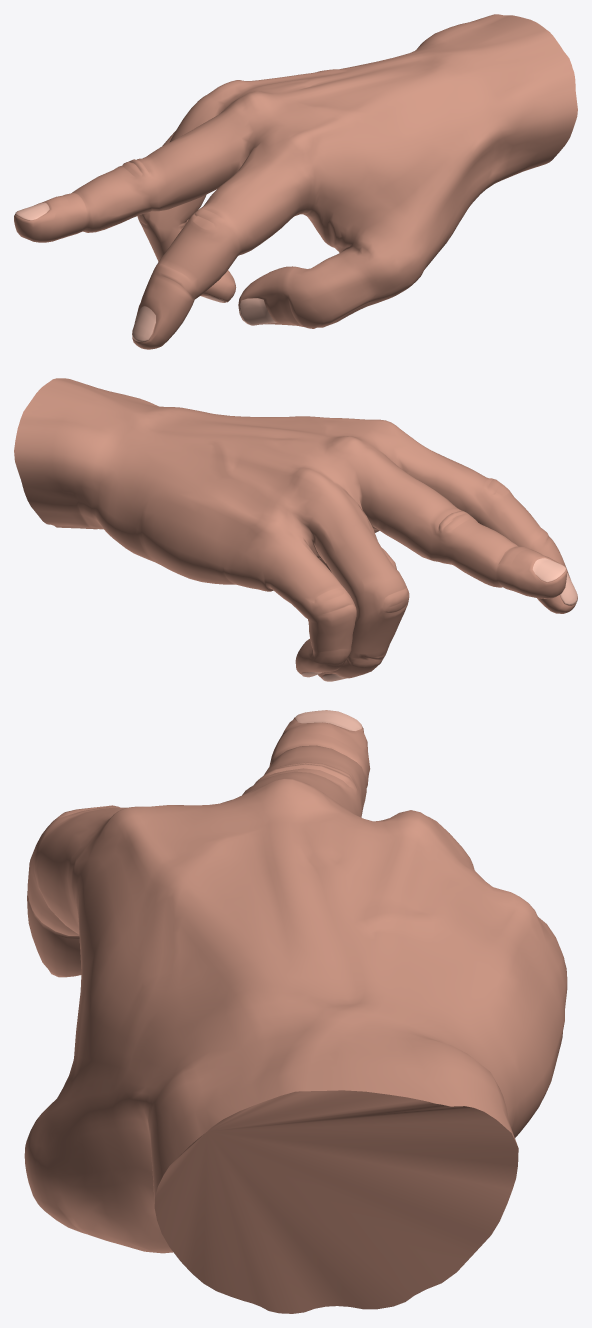
Rendered from hand_23.obj.
3 views of the same model, one above another, from view 1: azimuth 30°, elevation 25°; view 2: azimuth 150°, elevation 25°; view 3: azimuth 270°, elevation 25° (orthographic). The views are drawn at different scales.
Visible parts, largest first — view 1: Figure_2; view 2: Figure_2; view 3: Figure_2.
Boxes of the visible parts, left/top/right/bottom form: Figure_2: left=14, top=14, right=577, bottom=349; Figure_2: left=14, top=378, right=577, bottom=681; Figure_2: left=24, top=710, right=567, bottom=1313.
Size of the model in its own units: 0.8925 by 0.3641 by 0.4023.
